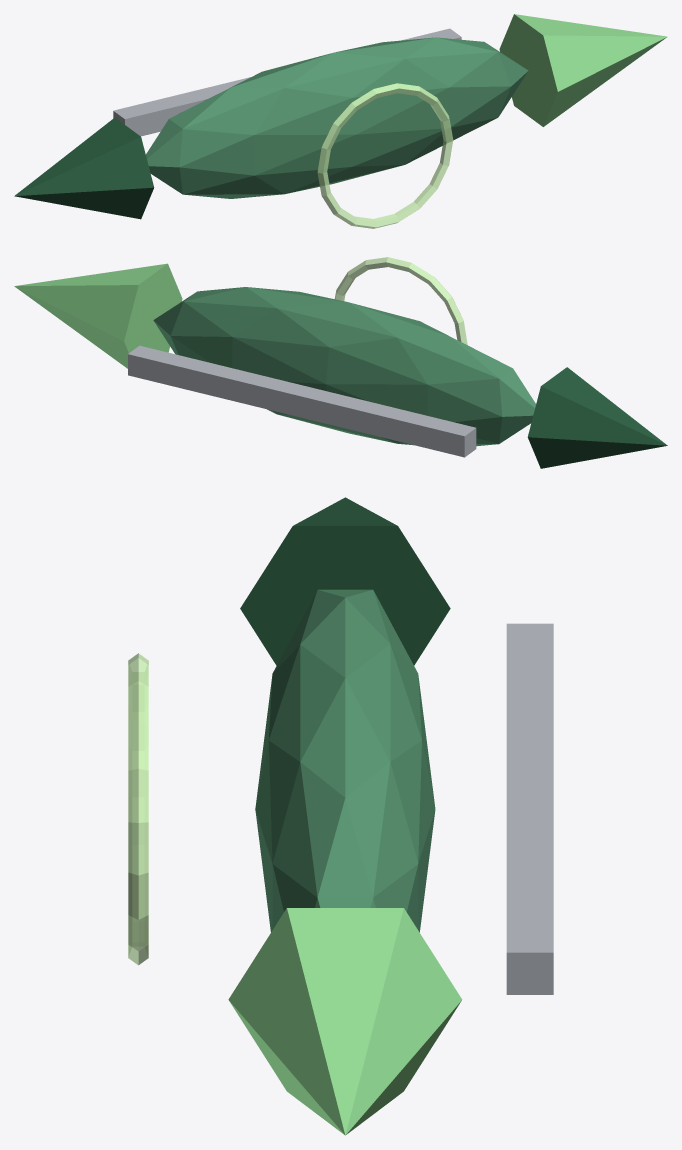
Rendered from 05_skyship_hull.glb.
3 renders of one model, top to bottom at view 1: azimuth 30°, elevation 25°; view 2: azimuth 150°, elevation 25°; view 3: azimuth 270°, elevation 25°, orthographic. The views are drawn at different scales.
Parts seen in each view (by area): view 1: hull_low_poly, bow_upgrade, stern_fin, size_class_ring, keel_plate; view 2: hull_low_poly, keel_plate, bow_upgrade, stern_fin, size_class_ring; view 3: hull_low_poly, bow_upgrade, keel_plate, stern_fin, size_class_ring.
Boxes of the visible parts, box(x1,y1,x2,y2) form: hull_low_poly: box(146, 37, 528, 198); bow_upgrade: box(499, 14, 667, 126); stern_fin: box(14, 117, 154, 219); size_class_ring: box(317, 83, 453, 228); keel_plate: box(113, 28, 461, 136); hull_low_poly: box(153, 287, 535, 446); keel_plate: box(128, 345, 476, 457); bow_upgrade: box(14, 263, 182, 368); stern_fin: box(527, 367, 667, 468); size_class_ring: box(334, 257, 467, 344); hull_low_poly: box(255, 589, 435, 932); bow_upgrade: box(228, 908, 462, 1135); keel_plate: box(506, 623, 553, 994); stern_fin: box(240, 497, 450, 665); size_class_ring: box(128, 653, 148, 965).
Bounding box in the file's own units: 2.45 × 0.5015 × 0.6903.
